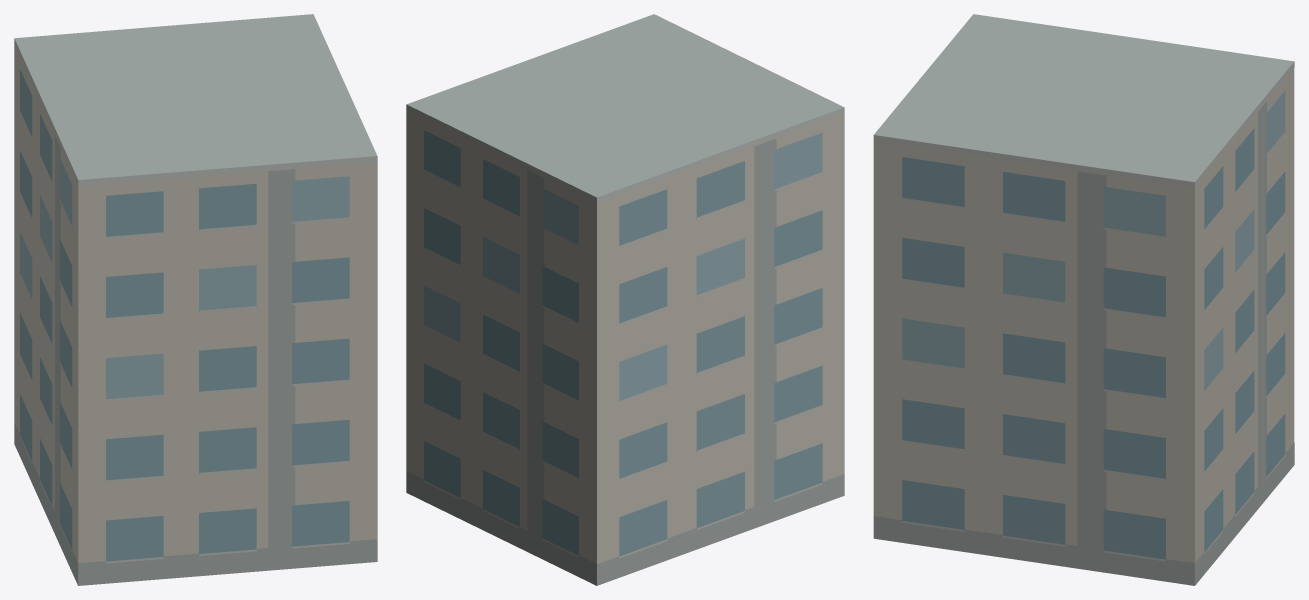
File: residential-cee57c11-5fa0-40f0-9929-63a35024e5f5.glb
3 views of the same model, side by side, from view 1: azimuth 30°, elevation 25°; view 2: azimuth 150°, elevation 25°; view 3: azimuth 270°, elevation 25° (orthographic). The views are drawn at different scales.
Visible parts, largest first — view 1: residential-cee57c11-5fa0-40f0-9929-63a35024e5f5.tmp; view 2: residential-cee57c11-5fa0-40f0-9929-63a35024e5f5.tmp; view 3: residential-cee57c11-5fa0-40f0-9929-63a35024e5f5.tmp.
Part boxes in pixels (x1=…): residential-cee57c11-5fa0-40f0-9929-63a35024e5f5.tmp: x1=14, y1=14, x2=377, y2=585; residential-cee57c11-5fa0-40f0-9929-63a35024e5f5.tmp: x1=406, y1=14, x2=844, y2=585; residential-cee57c11-5fa0-40f0-9929-63a35024e5f5.tmp: x1=873, y1=14, x2=1294, y2=585.
Bounding box in the file's own units: 13.64 × 15.25 × 14.42.
